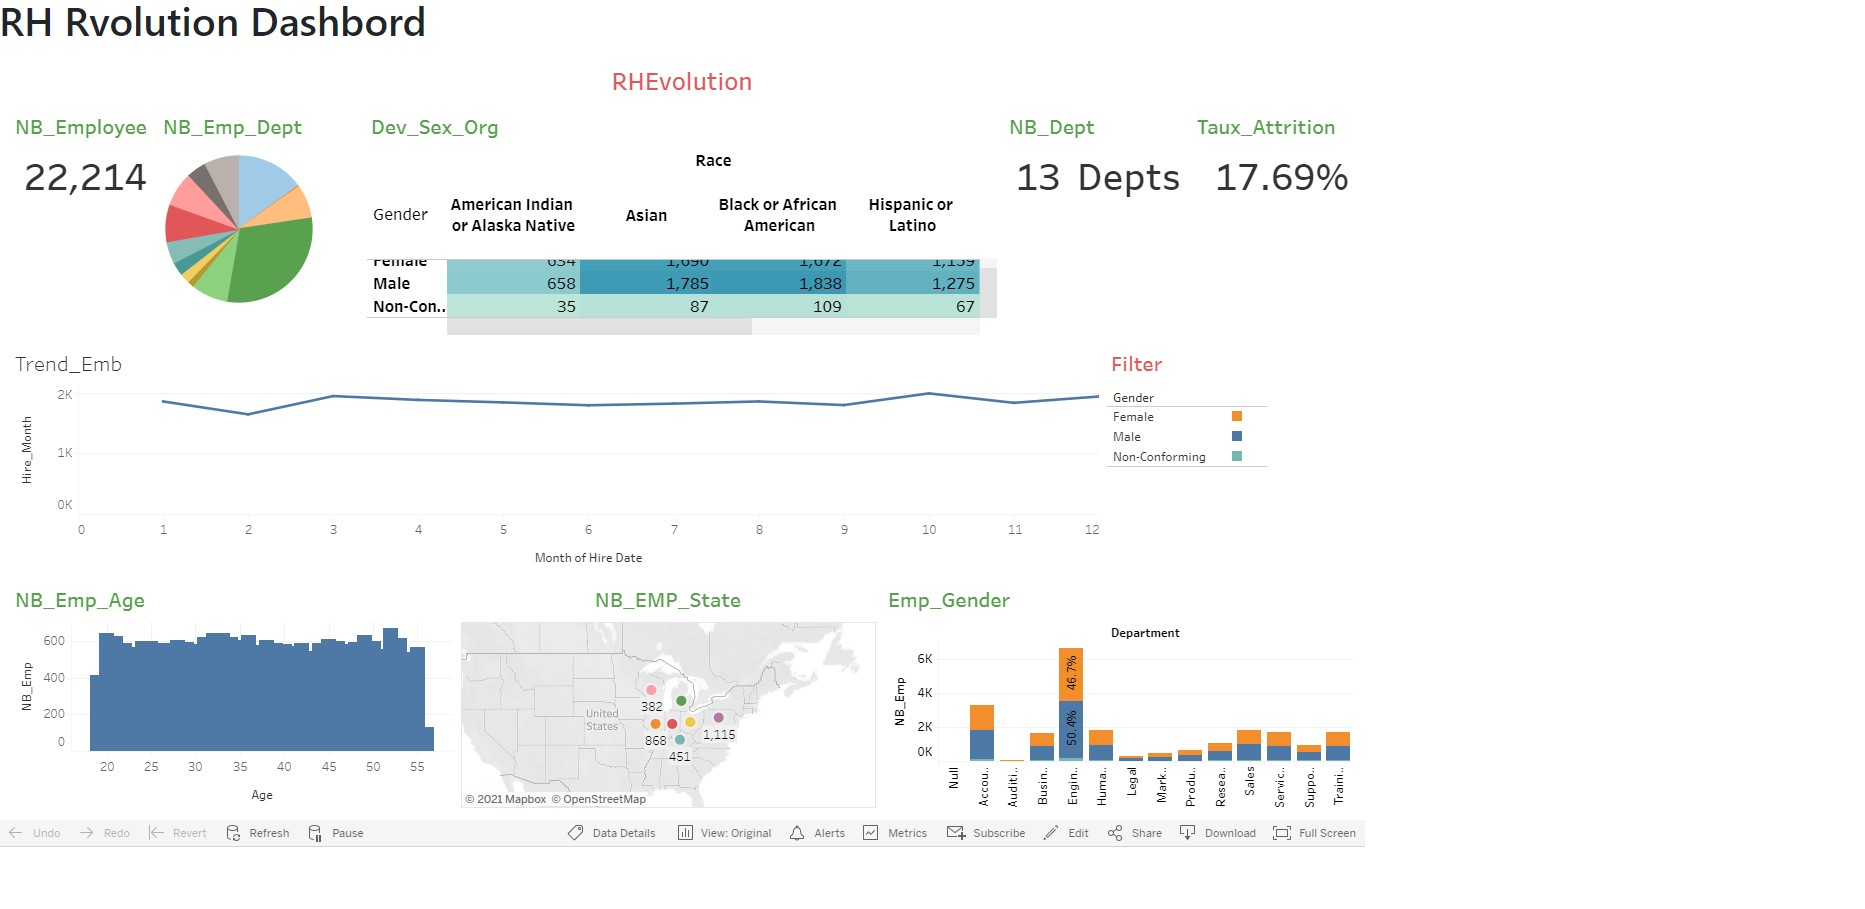

What the dashboard file says about the page in this screenshot:
{"tool":"tableau","page":{"name":"RHEvolution","canvas":[1366,768],"ordinal":0},"visuals":[{"type":"title","box":[8,8,1350,42]},{"type":"worksheet","title":"NB_Employee","mark":"Automatic","box":[8,50,148,236.7]},{"type":"worksheet","title":"NB_Emp_Dept","mark":"Pie","box":[156,50,208,236.7]},{"type":"worksheet","title":"Dev_Sex_Org","mark":"Square","rows":["gender"],"cols":["race"],"box":[364,50,638,236.7]},{"type":"worksheet","title":"NB_Dept","mark":"Automatic","box":[1002,50,188,236.7]},{"type":"worksheet","title":"Taux_Attrition","mark":"Automatic","box":[1190,50,168,236.7]},{"type":"worksheet","title":"Trend_Emb","mark":"Automatic","rows":["Calculation_359513923851350019"],"cols":["hire_date"],"box":[8,286.7,1096,236.7]},{"type":"worksheet","title":"Sheet 10","mark":"Automatic","rows":["gender"],"box":[1104,286.7,254,236.7]},{"type":"worksheet","title":"NB_Emp_Age","mark":"Bar","rows":["Calculation_366902641792258094"],"cols":["Calculation_366902641795772464"],"box":[8,523.3,450,236.7]},{"type":"worksheet","title":"NB_EMP_State","mark":"Automatic","box":[458,523.3,423,236.7]},{"type":"worksheet","title":"Emp_Gender","mark":"Bar","rows":["Calculation_366902641792258094"],"cols":["department"],"box":[881,523.3,477,236.7]}]}

Visuals, with their boxes on the page's 1366x768 design canvas (x1, y1, x2, y2). These are canvas units, not pixel positions in the 1865x909 screenshot, which may show the page scaled, cropped or inside an application window:
title: bbox(8, 8, 1358, 50)
"NB_Employee" worksheet: bbox(8, 50, 156, 287)
"NB_Emp_Dept" worksheet (Pie marks): bbox(156, 50, 364, 287)
"Dev_Sex_Org" worksheet (Square marks): bbox(364, 50, 1002, 287)
"NB_Dept" worksheet: bbox(1002, 50, 1190, 287)
"Taux_Attrition" worksheet: bbox(1190, 50, 1358, 287)
"Trend_Emb" worksheet: bbox(8, 287, 1104, 523)
"Sheet 10" worksheet: bbox(1104, 287, 1358, 523)
"NB_Emp_Age" worksheet (Bar marks): bbox(8, 523, 458, 760)
"NB_EMP_State" worksheet: bbox(458, 523, 881, 760)
"Emp_Gender" worksheet (Bar marks): bbox(881, 523, 1358, 760)
